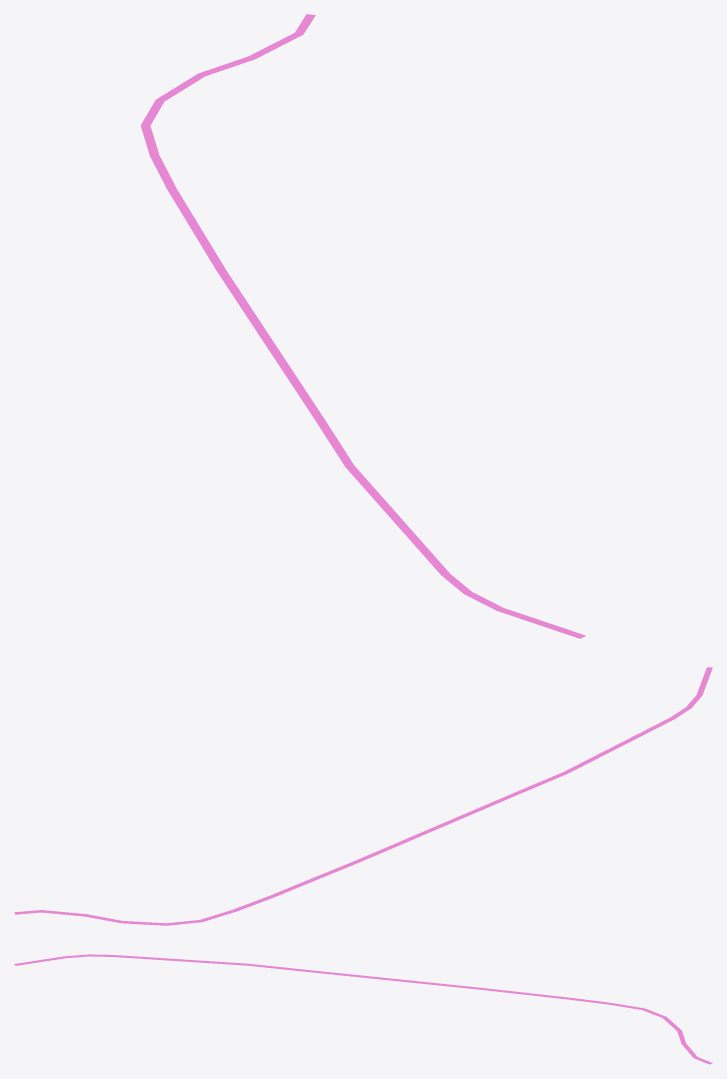
File: karja_reference_line.glb
3 views of the same model, one above another, from view 1: azimuth 30°, elevation 25°; view 2: azimuth 150°, elevation 25°; view 3: azimuth 270°, elevation 25° (orthographic). The views are drawn at different scales.
Parts seen in each view (by area): view 1: KarjaReferenceLine; view 2: KarjaReferenceLine; view 3: KarjaReferenceLine.
Boxes of the visible parts, x1,y1,x2,y2 form: KarjaReferenceLine: [140, 14, 585, 638]; KarjaReferenceLine: [14, 667, 712, 925]; KarjaReferenceLine: [14, 954, 712, 1064].
Size of the model in its own units: 69.04 by 1.4 by 177.
